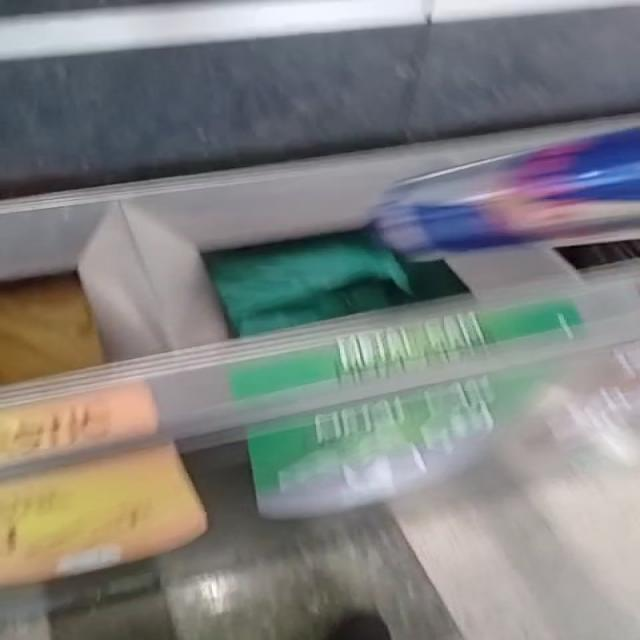bin: (3, 116, 637, 361)
metal: (372, 128, 640, 254)
